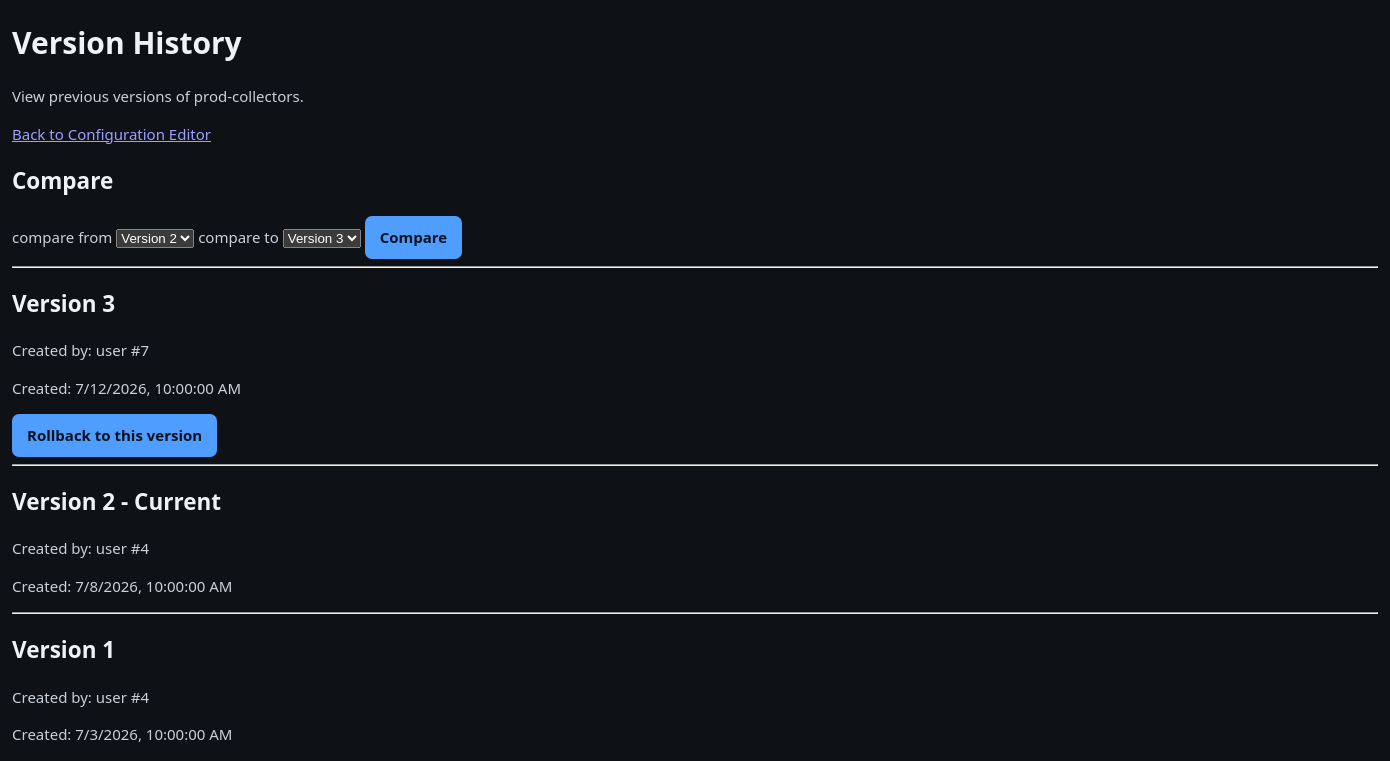
Test: VersionHistory › shows a rollback ApiError in an alert
The width and height of the screenshot is (1390, 761).
Expected: the heading "Version 3" is shown, [12,288,115,319]
Click the button "Rollback to this version" below "7/12/2026, 10:00:00 AM".
click(115, 436)  # box [12,414,217,457]
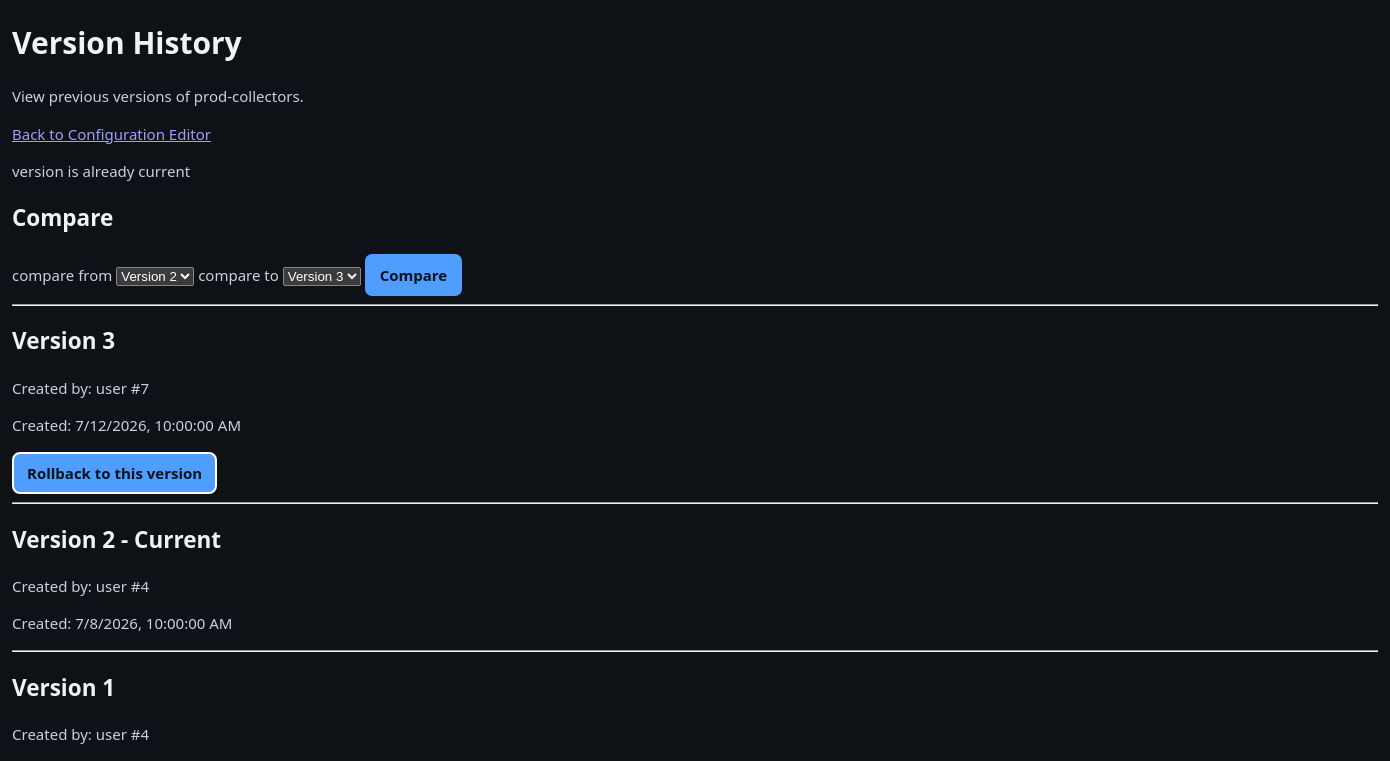
Expected: the message reads "version is already current", [12,161,190,181]
